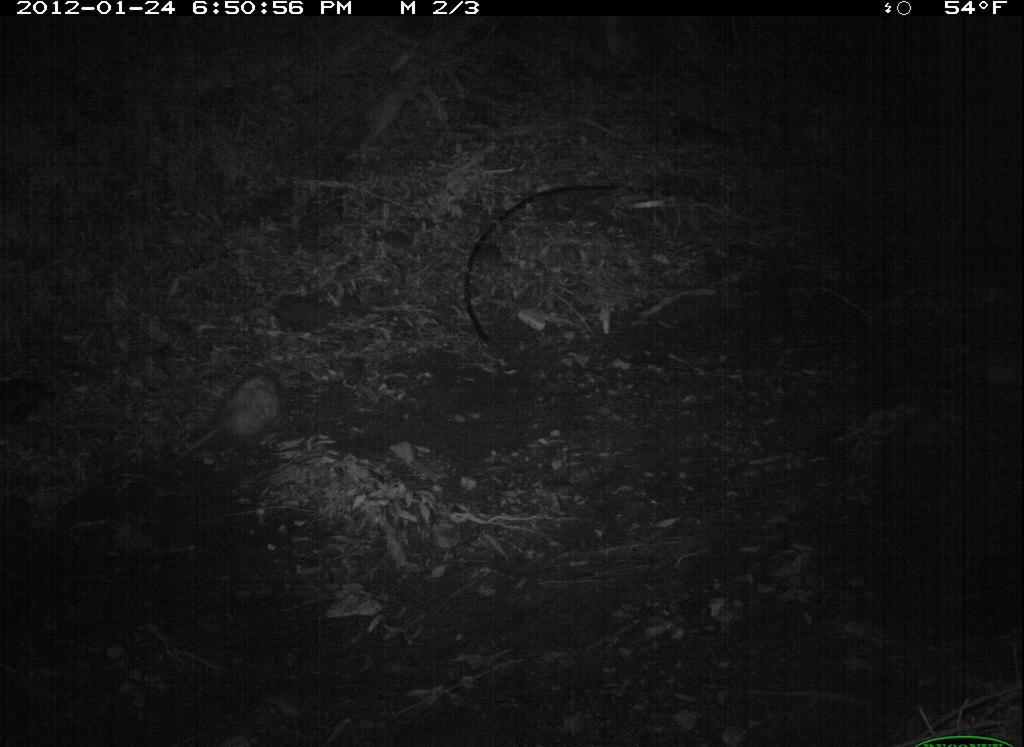opossum: (180, 372, 295, 452)
